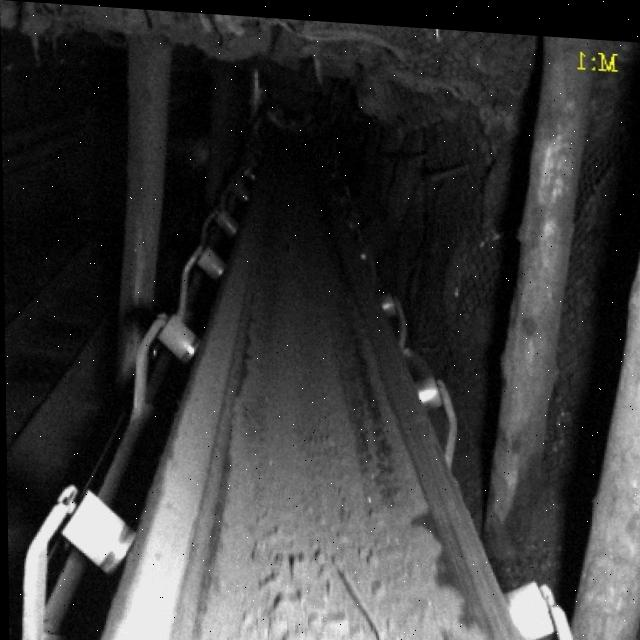bolt: (326, 557, 389, 640)
large_sized_coal: (277, 620, 318, 640)
